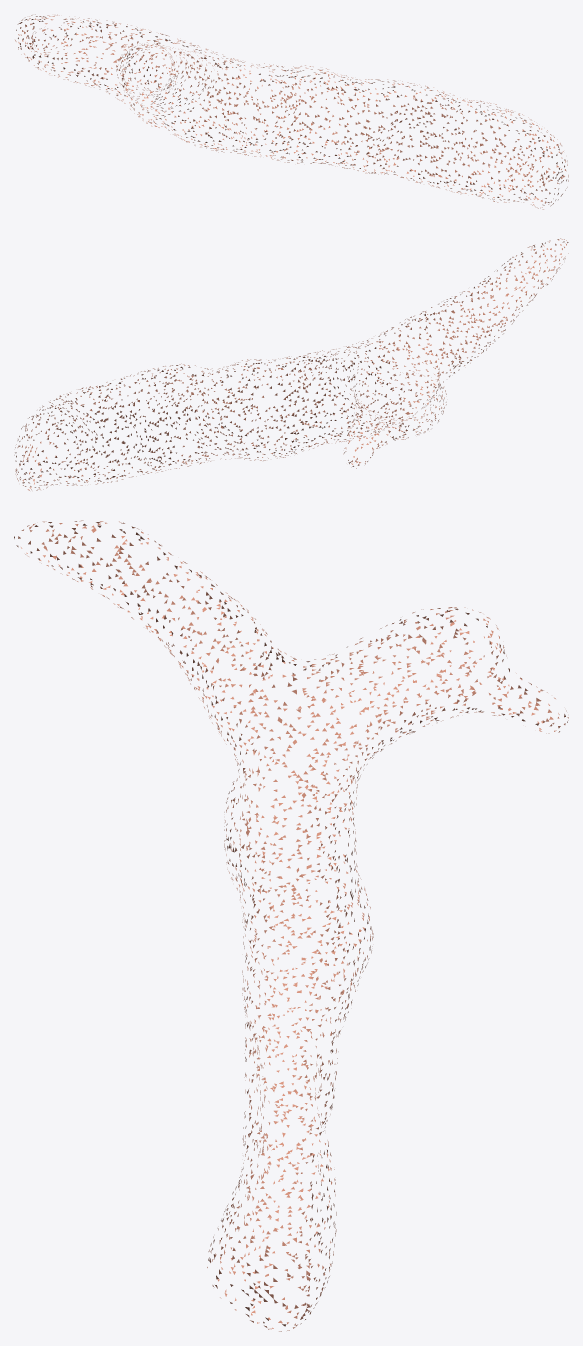
The model's file is morph_003.glb.
The picture shows the model from 3 angles, top to bottom: view 1: azimuth 30°, elevation 25°; view 2: azimuth 150°, elevation 25°; view 3: azimuth 270°, elevation 25°; orthographic projection. The views are drawn at different scales.
Size of the model in its own units: 132 by 82.22 by 87.08.
